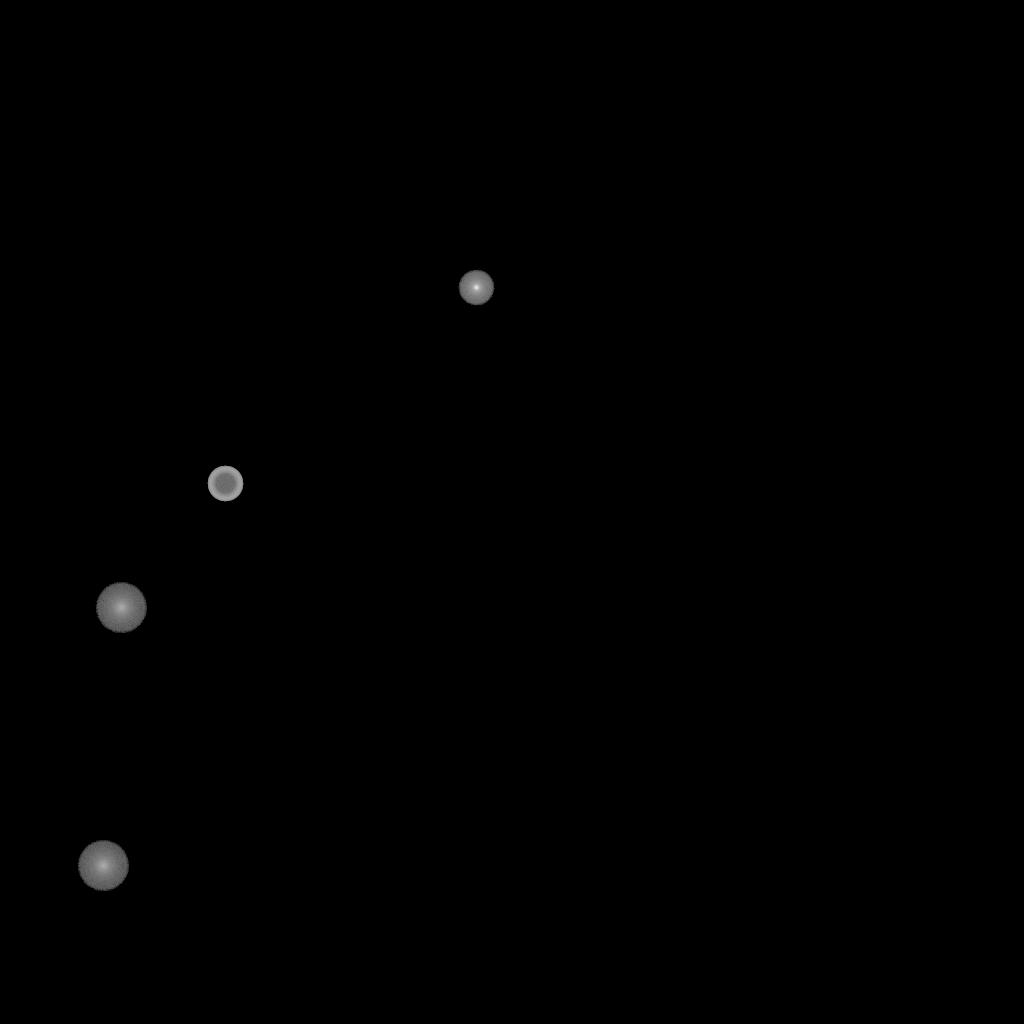depth:-60: (207, 466, 243, 502)
depth:0: (458, 270, 494, 306)
depth:20: (95, 583, 147, 633), (77, 841, 129, 891)
